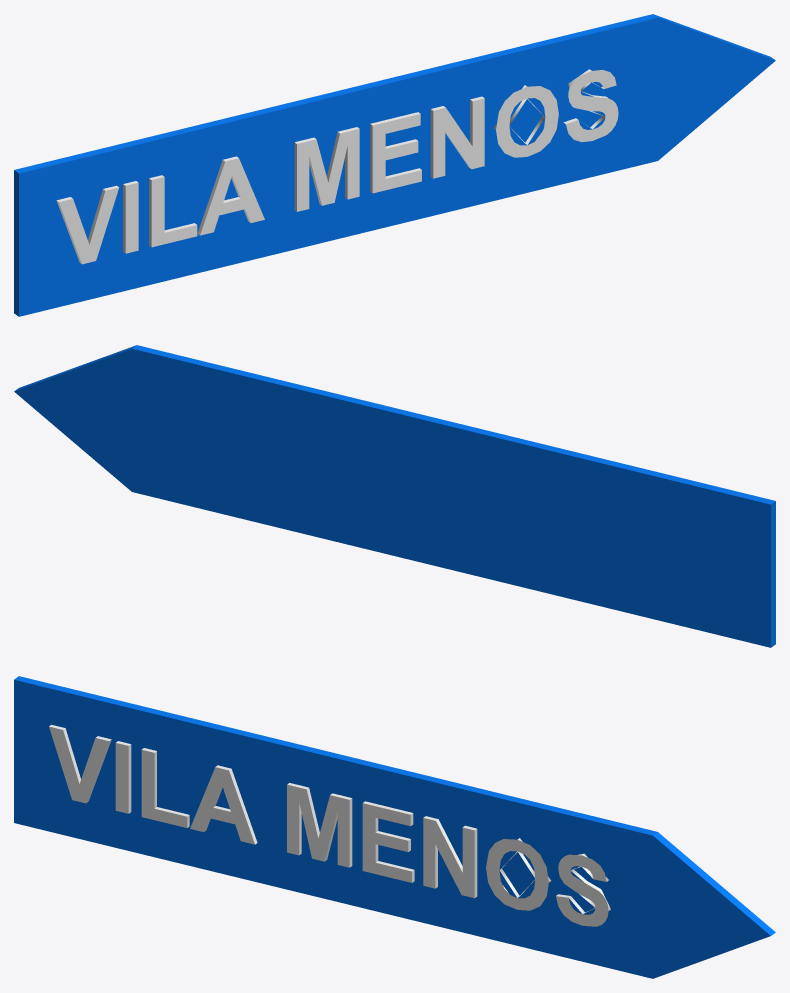
File: placa Vila Menos-2.fbx
3 renders of one model, top to bottom at view 1: azimuth 30°, elevation 25°; view 2: azimuth 150°, elevation 25°; view 3: azimuth 330°, elevation 25°, orthographic.
Visible parts, largest first — view 1: vila menos; view 2: vila menos; view 3: vila menos.
Part boxes in pixels (bbox=[...]): vila menos: bbox=[14, 14, 775, 316]; vila menos: bbox=[14, 345, 775, 647]; vila menos: bbox=[14, 676, 775, 978].
Size of the model in its own units: 1750 by 317 by 30.
